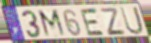3: (21, 9, 43, 39)
6: (63, 9, 83, 38)
E: (80, 8, 107, 38)
M: (37, 9, 69, 39)
U: (118, 6, 144, 36)
Z: (98, 7, 127, 37)
